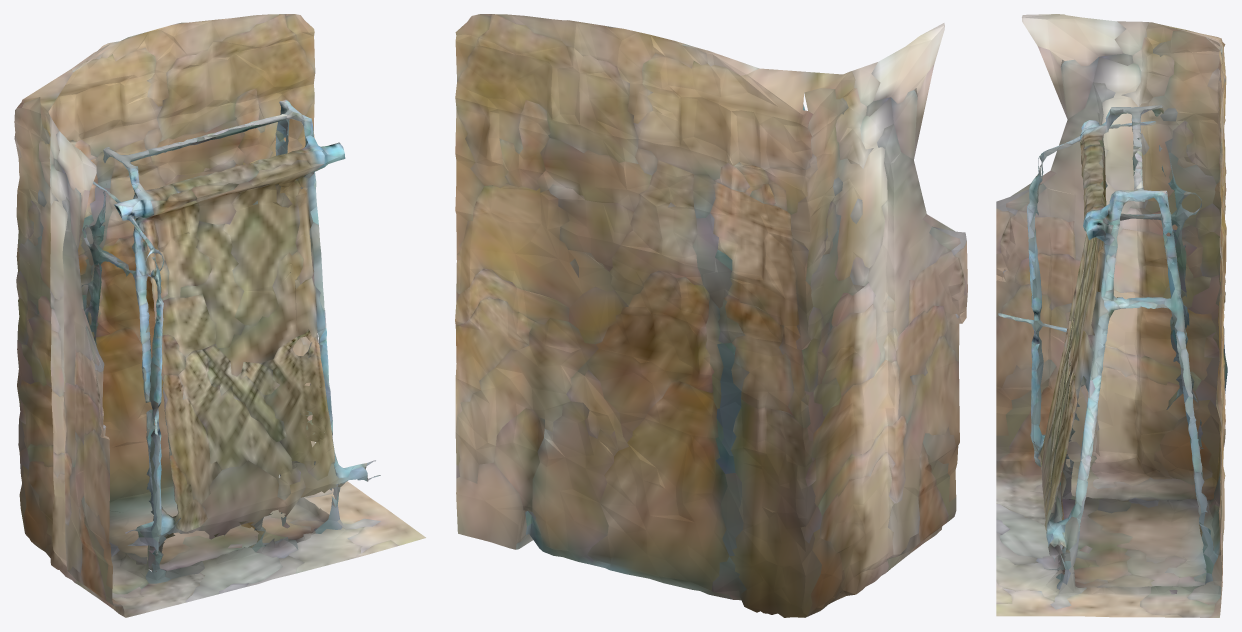
File: traditional-loom.glb
3 views of the same model, side by side, from view 1: azimuth 30°, elevation 25°; view 2: azimuth 150°, elevation 25°; view 3: azimuth 270°, elevation 25° (orthographic). The views are drawn at different scales.
Visible parts, largest first — view 1: Object_2; view 2: Object_2; view 3: Object_2.
Boxes of the visible parts, x1,y1,x2,y2 form: Object_2: (14, 14, 425, 617); Object_2: (455, 14, 967, 617); Object_2: (996, 14, 1227, 617).
Bounding box in the file's own units: 1.43 × 2 × 0.8738.
1 material, 1 textured.
